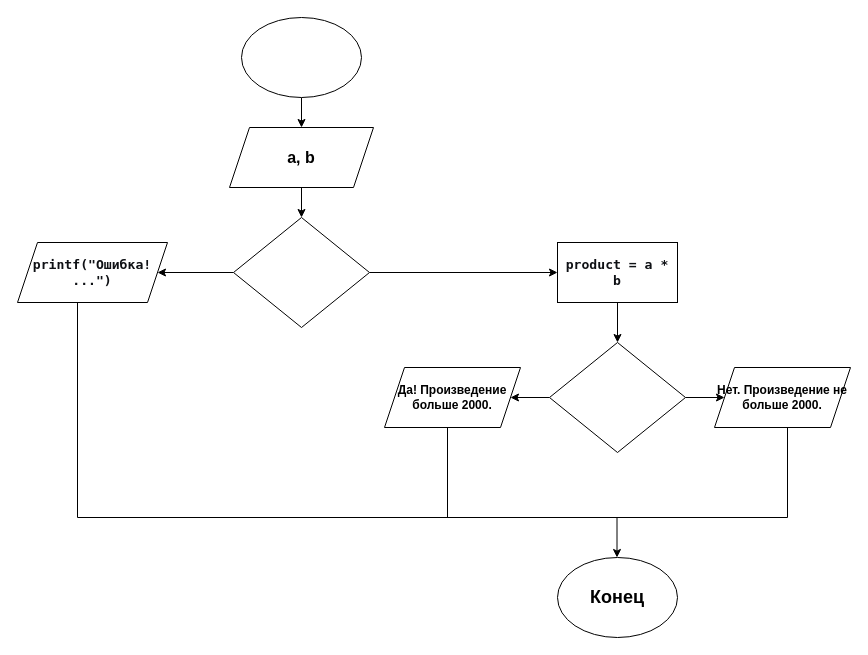
Some shapes in this 868 by 655 pixel diagram are drawn without their labels. The shapes that lost their labels are listed below. From the top down, each one's box as (x1, y1, x2, y2) in pixels, then its label:
(240, 16, 362, 98): Начало
(232, 216, 370, 328): if (a < 10 || a > 99 || b < 10 || b > 99)
(548, 342, 686, 452): if (product > 2000)
